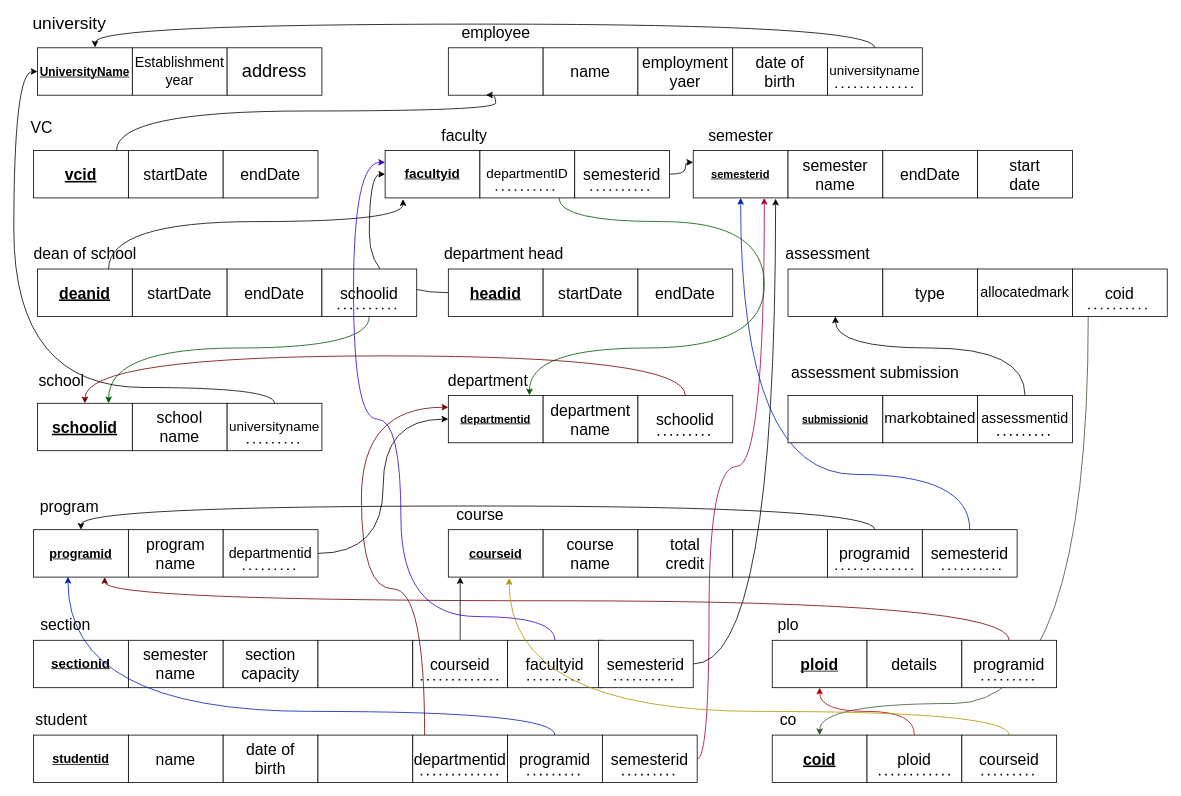
Some shapes in this 1181 by 796 pixel diagram are drawn without their labels. The shapes that lost their labels are listed below. From the top down, each one's centre as x and y in pixels, then its label:
pixel 495 71: employeeID
pixel 835 292: assseessmentid
pixel 780 553: course code
pixel 365 664: section number
pixel 365 758: enrollment date
